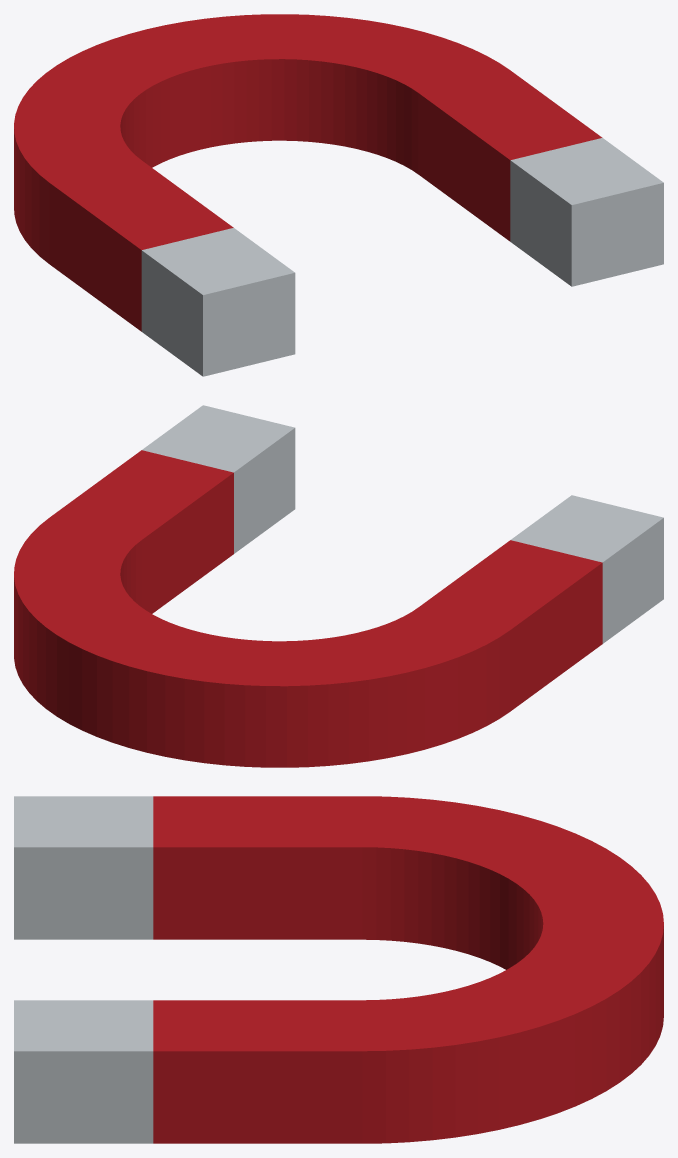
The model's file is NEW_RECOVERY_037_LOD1.fbx.
The picture shows the model from 3 angles, top to bottom: view 1: azimuth 30°, elevation 25°; view 2: azimuth 150°, elevation 25°; view 3: azimuth 270°, elevation 25°; orthographic projection. The views are drawn at different scales.
Visible parts, largest first — view 1: Horseshoe Magnet; view 2: Horseshoe Magnet; view 3: Horseshoe Magnet.
Part boxes in pixels (left/top/right/bottom): Horseshoe Magnet: left=14, top=14, right=663, bottom=376; Horseshoe Magnet: left=14, top=405, right=663, bottom=767; Horseshoe Magnet: left=14, top=796, right=663, bottom=1143.
Bounding box in the file's own units: 260 × 280 × 44.
